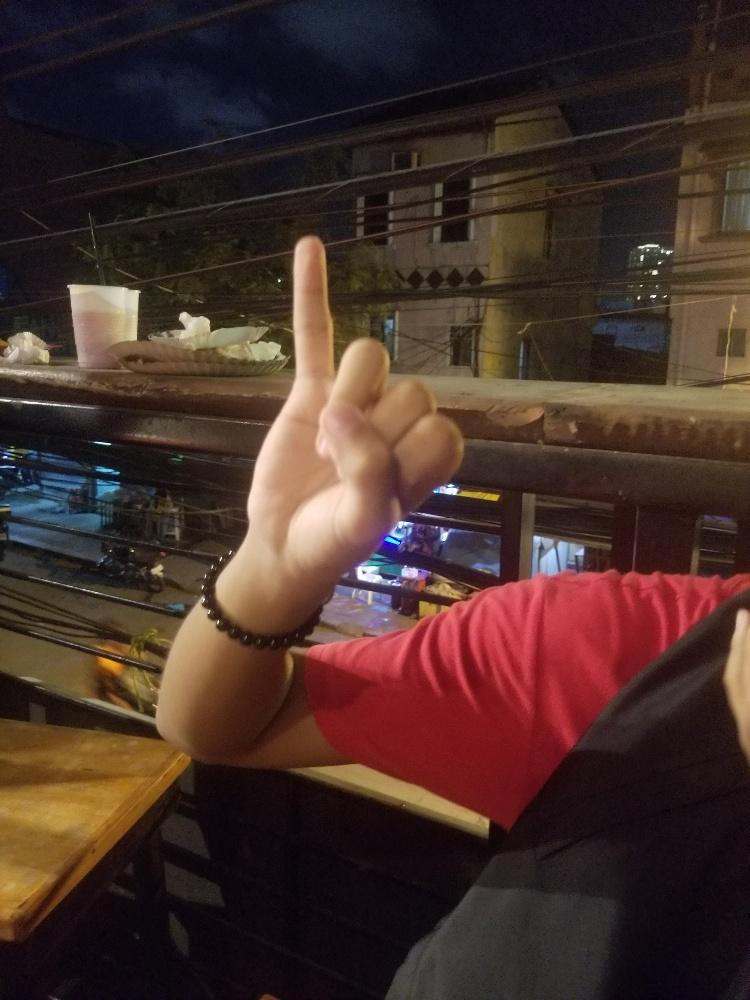i: (267, 235, 468, 575)
